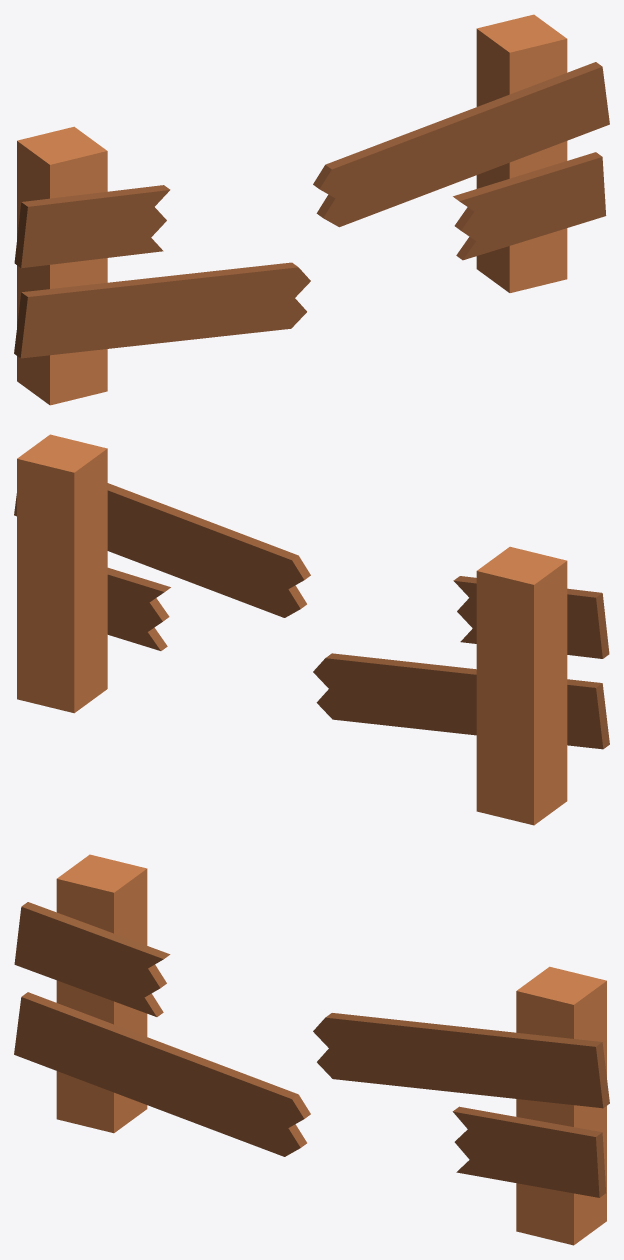
Rendered from fenceBroken.dae.
The picture shows the model from 3 angles, top to bottom: view 1: azimuth 30°, elevation 25°; view 2: azimuth 150°, elevation 25°; view 3: azimuth 330°, elevation 25°; orthographic projection.
Visible parts, largest first — view 1: fenceBroken; view 2: fenceBroken; view 3: fenceBroken.
Boxes of the visible parts, box(x1,y1,x2,y2) form: fenceBroken: box(14, 14, 609, 405); fenceBroken: box(14, 434, 609, 825); fenceBroken: box(14, 854, 609, 1245).
Bounding box in the file's own units: 1.03 × 0.4 × 0.12.
